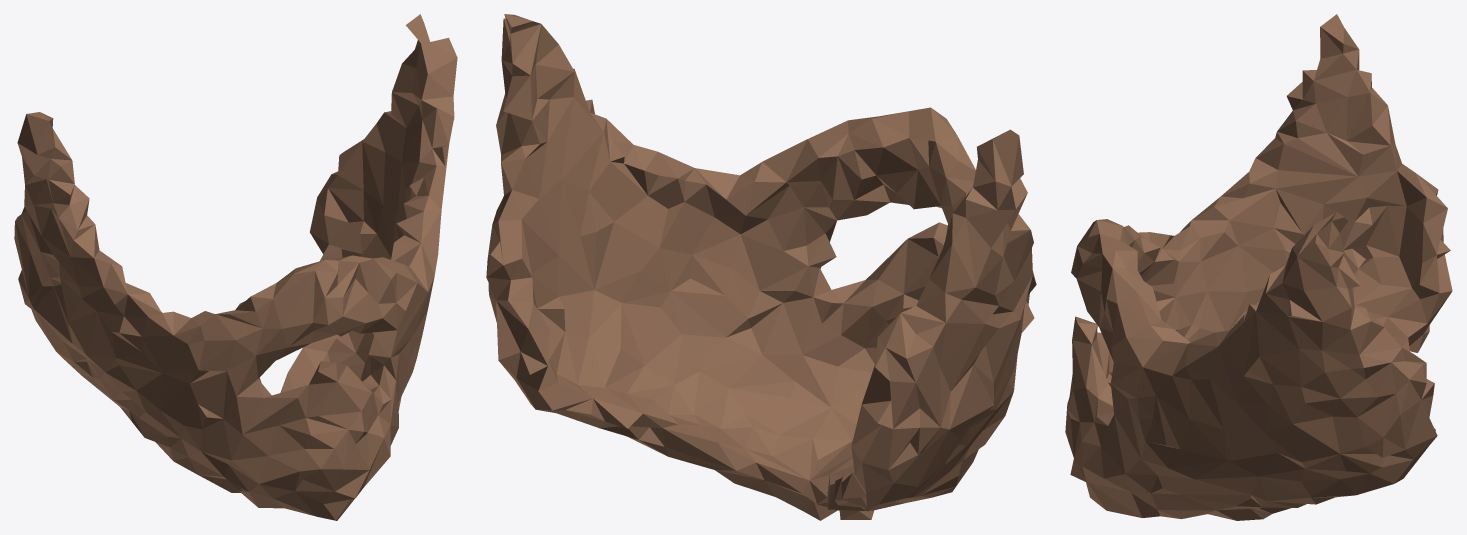
The model's file is Beard_short_LOD2.glb.
3 views of the same model, side by side, from view 1: azimuth 30°, elevation 25°; view 2: azimuth 150°, elevation 25°; view 3: azimuth 270°, elevation 25° (orthographic). The views are drawn at different scales.
Parts seen in each view (by area): view 1: Beard_short_LOD2; view 2: Beard_short_LOD2; view 3: Beard_short_LOD2.
Boxes of the visible parts, x1,y1,x2,y2 form: Beard_short_LOD2: (14, 14, 457, 520); Beard_short_LOD2: (486, 14, 1036, 520); Beard_short_LOD2: (1065, 14, 1452, 520).
Size of the model in its own units: 0.1733 by 0.1514 by 0.134.
